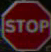Stop: (2, 4, 49, 44)
